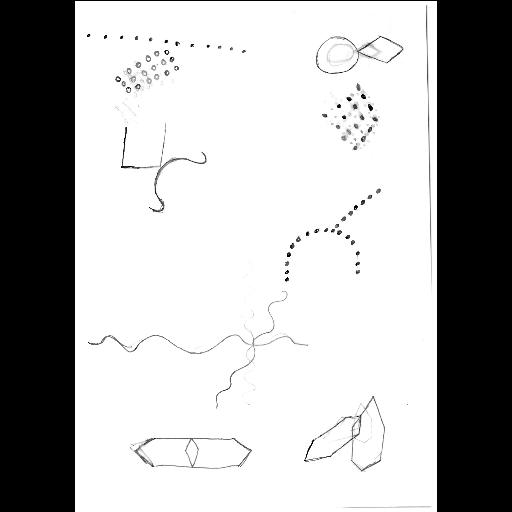shape-1: (312, 30, 408, 76)
shape-2: (81, 26, 247, 52)
shape-3: (112, 46, 180, 94)
shape-4: (319, 78, 381, 152)
shape-5: (119, 122, 209, 212)
shape-6: (283, 184, 381, 284)
shape-7: (86, 290, 308, 408)
shape-8: (302, 393, 390, 477)
shape-9: (128, 434, 254, 472)
